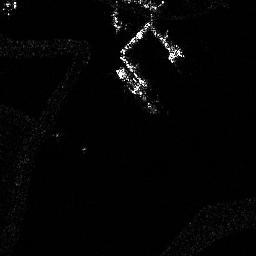ship: (115, 65, 142, 97)
